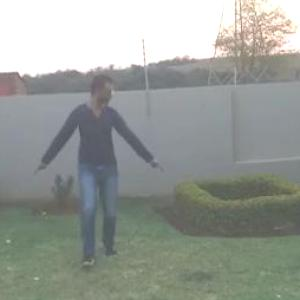land: (21, 74, 162, 273)
